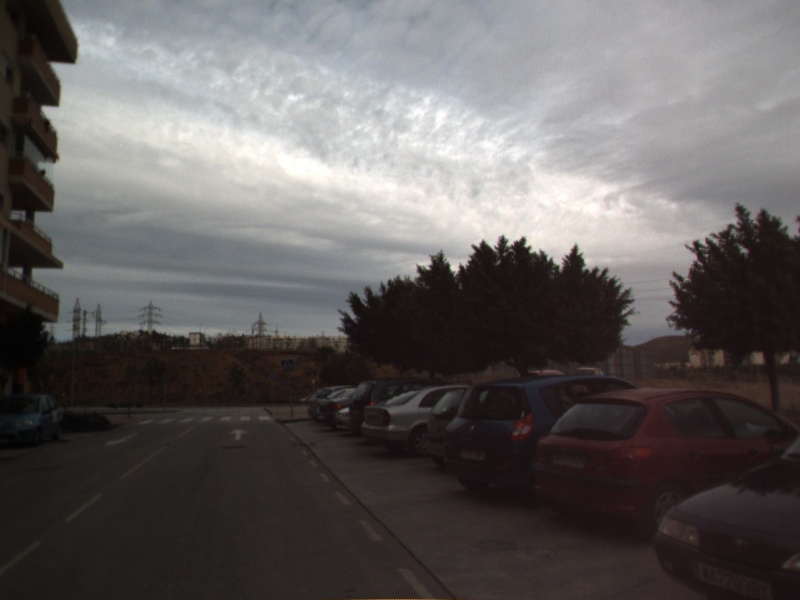STRAIGHT: (228, 427, 250, 442)
